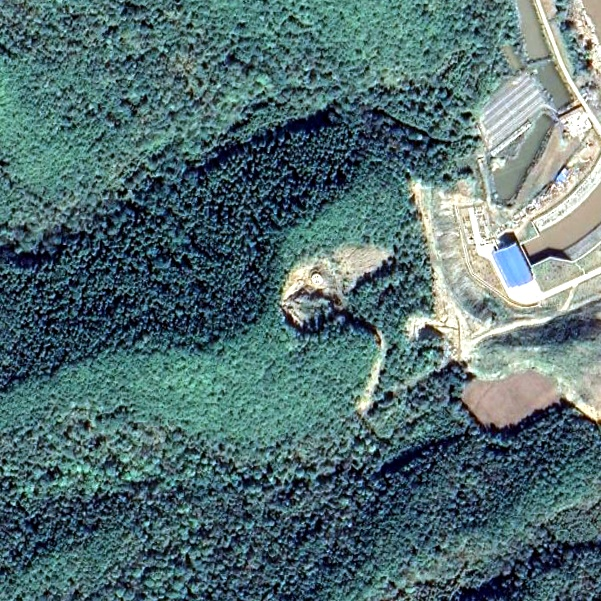slope: (280, 238, 397, 333)
